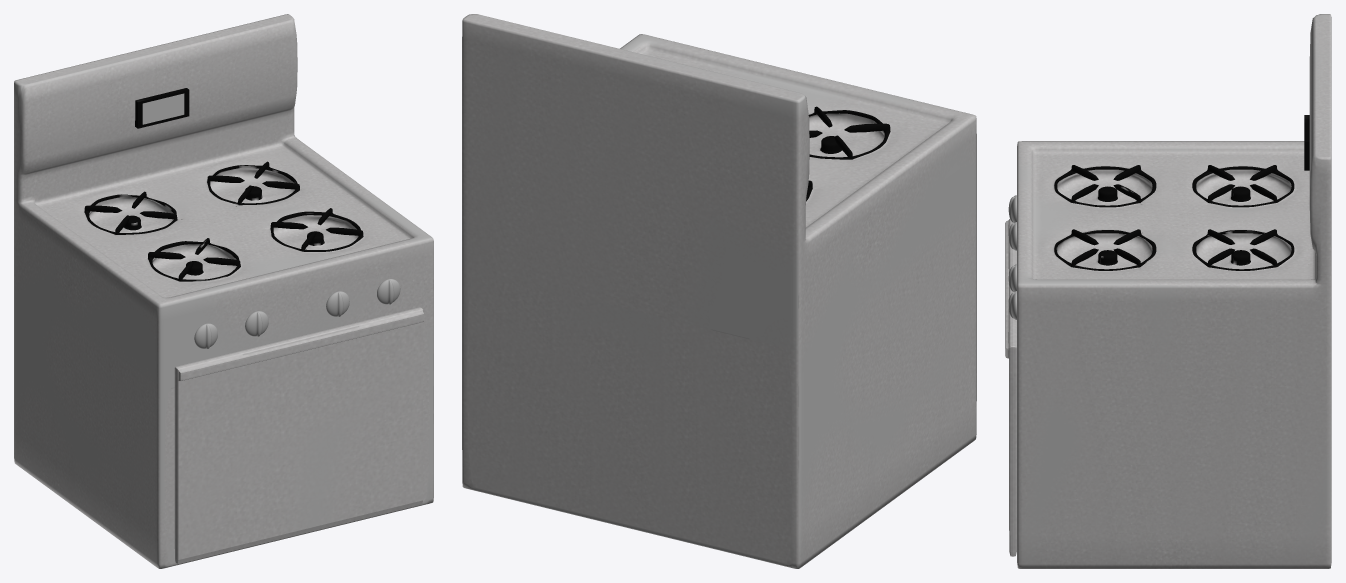
Rendered from _finalStove.fbx.
The picture shows the model from 3 angles, left to right: view 1: azimuth 30°, elevation 25°; view 2: azimuth 150°, elevation 25°; view 3: azimuth 270°, elevation 25°; orthographic projection. The views are drawn at different scales.
Visible parts, largest first — view 1: Oven; view 2: Oven; view 3: Oven.
Boxes of the visible parts, x1,y1,x2,y2 form: Oven: [14, 14, 433, 568]; Oven: [462, 14, 976, 568]; Oven: [1005, 14, 1331, 568].
Size of the model in its own units: 391 by 518 by 372.
Materials: 1 (1 with a texture image).
